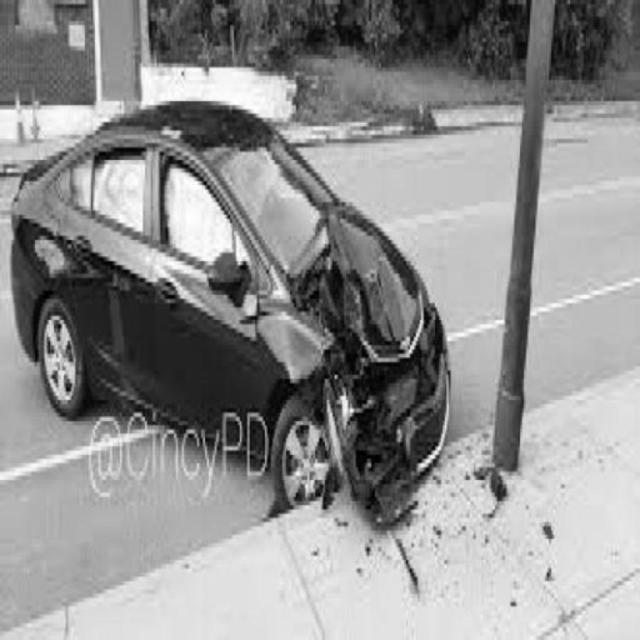vehicle: (14, 96, 452, 522)
